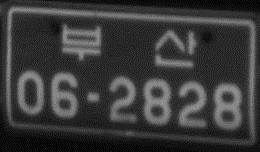-: (83, 89, 102, 106)
0: (15, 67, 46, 118)
2: (107, 74, 139, 123), (177, 79, 208, 129)
6: (49, 70, 80, 121)
8: (211, 80, 244, 132), (141, 77, 172, 126)
부산_D: (60, 20, 197, 70)
